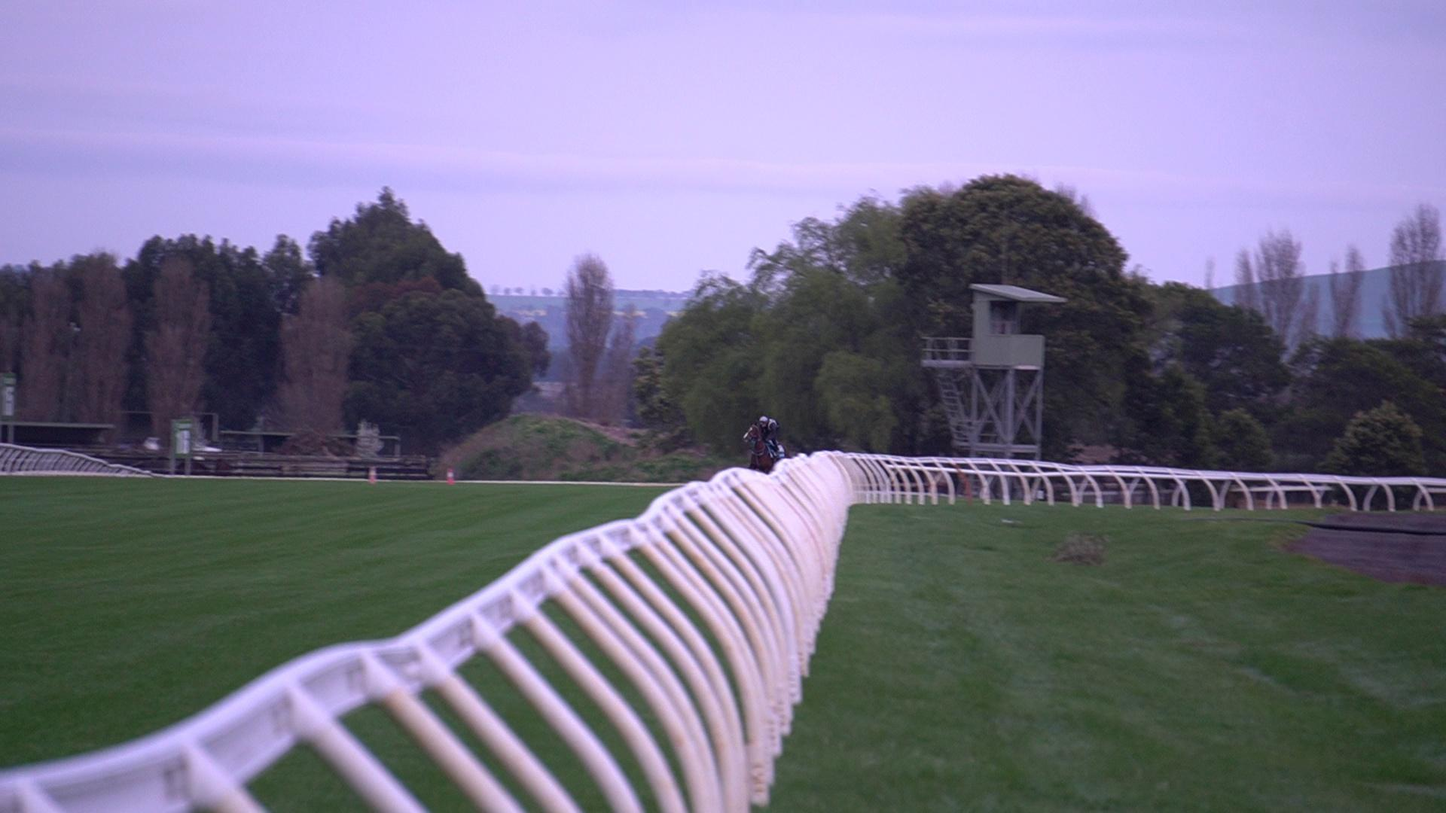racing-horse: (735, 395, 796, 516)
